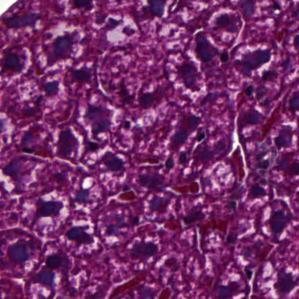inflammation: (254, 192, 297, 247), (89, 143, 132, 192), (202, 4, 246, 51)
